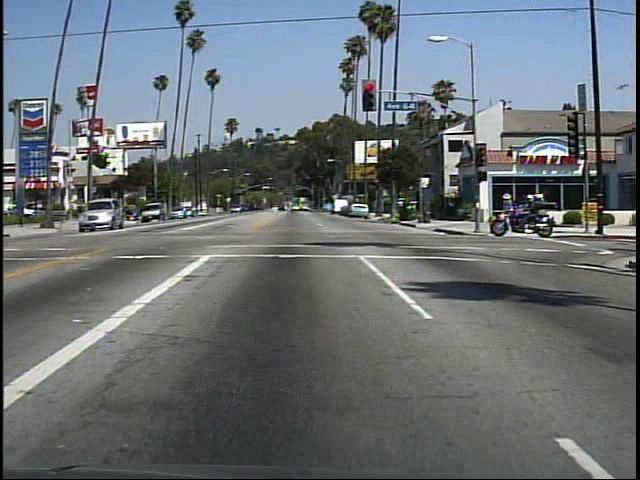person: (516, 193, 544, 235), (497, 188, 521, 230)
